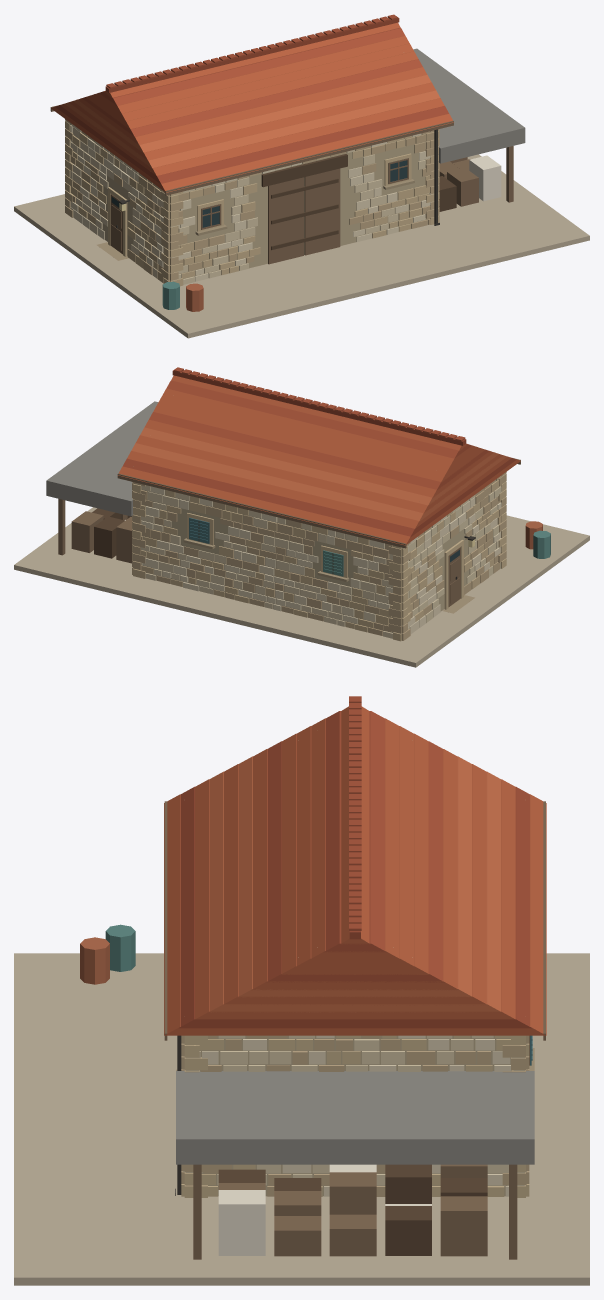
Rendered from depo-atolye.glb.
3 renders of one model, top to bottom at view 1: azimuth 30°, elevation 25°; view 2: azimuth 150°, elevation 25°; view 3: azimuth 270°, elevation 25°, orthographic. The views are drawn at different scales.
Parts seen in each view (by area): view 1: zemin, kiremit1, ahsap, kiremit2, tas2, harc, tas3, kiremit3, sac, tas1, kiremit4, tas4 (+7 smaller); view 2: kiremit1, zemin, tas3, tas2, tas1, kiremit2, tas4, kiremit3, sac, harc, kiremit4, ahsap (+4 smaller); view 3: zemin, kiremit1, sac, kiremit2, kiremit3, ahsap, kiremit4, ahsap_koyu, tas3, tas2, tas1, bez (+4 smaller).
Part boxes in pixels (x1,y1,x2,y2): zemin: (14, 154, 589, 338); kiremit1: (51, 22, 453, 192); ahsap: (50, 105, 513, 264); kiremit2: (82, 14, 422, 136); tas2: (65, 121, 439, 286); harc: (74, 133, 429, 280); tas3: (65, 119, 439, 283); kiremit3: (64, 74, 440, 168); sac: (413, 48, 525, 163); tas1: (66, 121, 433, 284); kiremit4: (55, 17, 448, 184); tas4: (70, 125, 433, 281); kiremit1: (118, 375, 520, 545); zemin: (14, 507, 589, 667); tas3: (132, 472, 506, 640); tas2: (132, 466, 506, 641); tas1: (136, 484, 502, 638); kiremit2: (149, 367, 489, 490); tas4: (141, 486, 501, 634); kiremit3: (131, 427, 506, 521); sac: (46, 401, 158, 516); harc: (141, 480, 498, 633); kiremit4: (123, 369, 516, 537); ahsap: (58, 458, 520, 606); zemin: (14, 953, 589, 1285); kiremit1: (164, 706, 546, 1035); sac: (176, 1071, 534, 1164); kiremit2: (266, 696, 444, 982); kiremit3: (209, 756, 500, 1012); ahsap: (164, 801, 545, 1259); kiremit4: (179, 786, 531, 1028); ahsap_koyu: (218, 1164, 487, 1255); tas3: (181, 740, 529, 1196); tas2: (181, 1035, 529, 1197); tas1: (182, 947, 526, 1185); bez: (218, 1164, 431, 1255).
Size of the model in its own units: 18 by 7.33 by 13.5.
